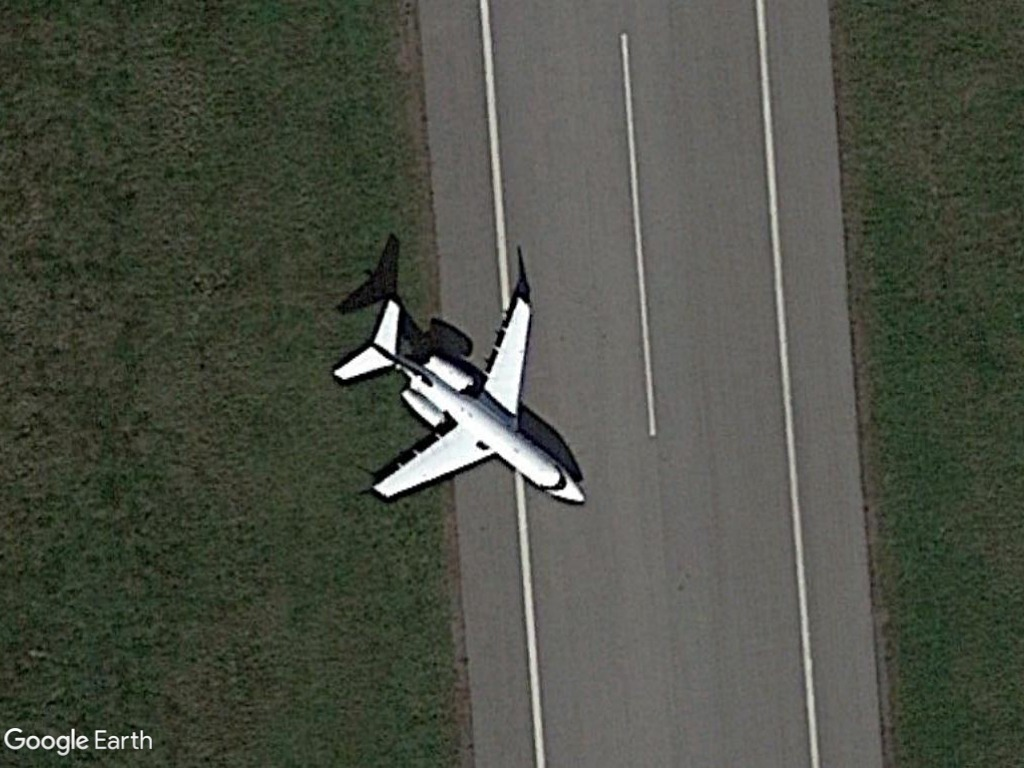chartered: (326, 285, 593, 524)
